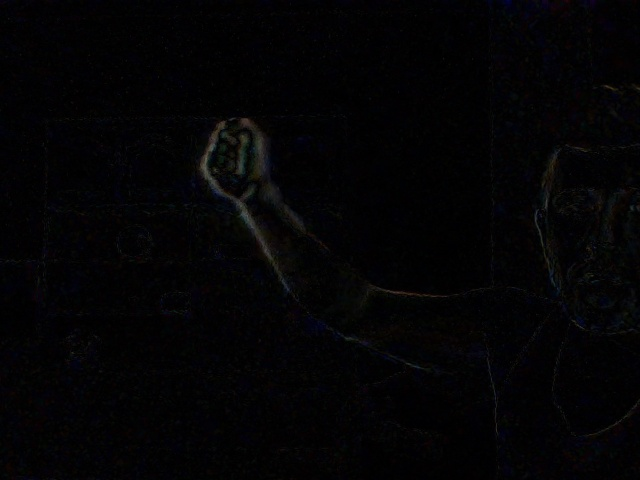hand_fi: (187, 104, 277, 207)
